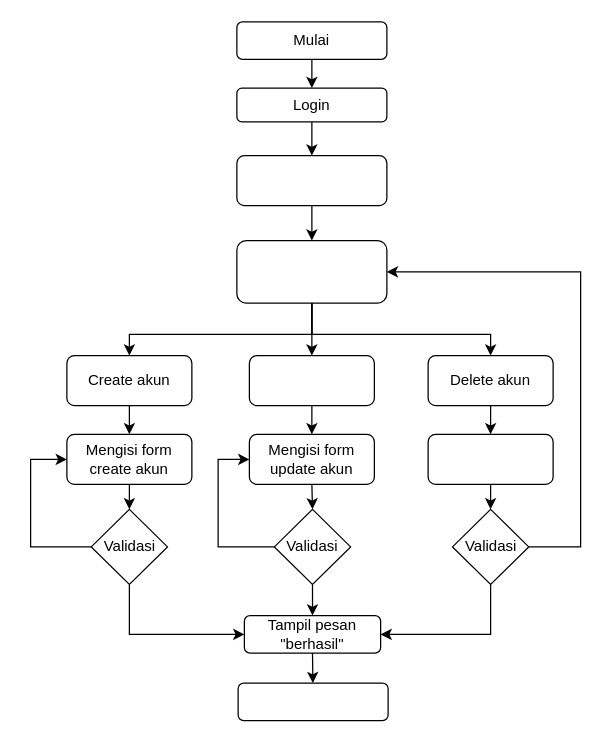
Image size: 613x743. Some labels were removed from this diagram. Each missing label, with the box of its shape:
Menampilkan daftar semua pengguna: (236, 239, 387, 303)
Pilih halaman "Manage account": (236, 154, 387, 206)
Tampil daftar akun: (237, 682, 388, 721)
Tampil pesan konfirmasi: (427, 433, 553, 484)
Update akun: (248, 354, 374, 406)
